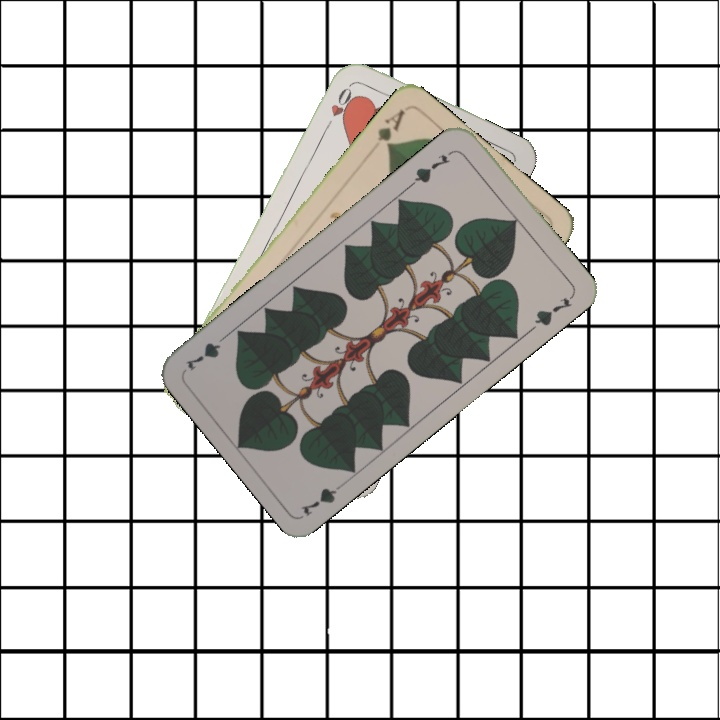G7: (296, 476, 351, 519), (407, 150, 453, 189)
GA: (373, 105, 409, 151)
HO: (320, 80, 355, 134)
